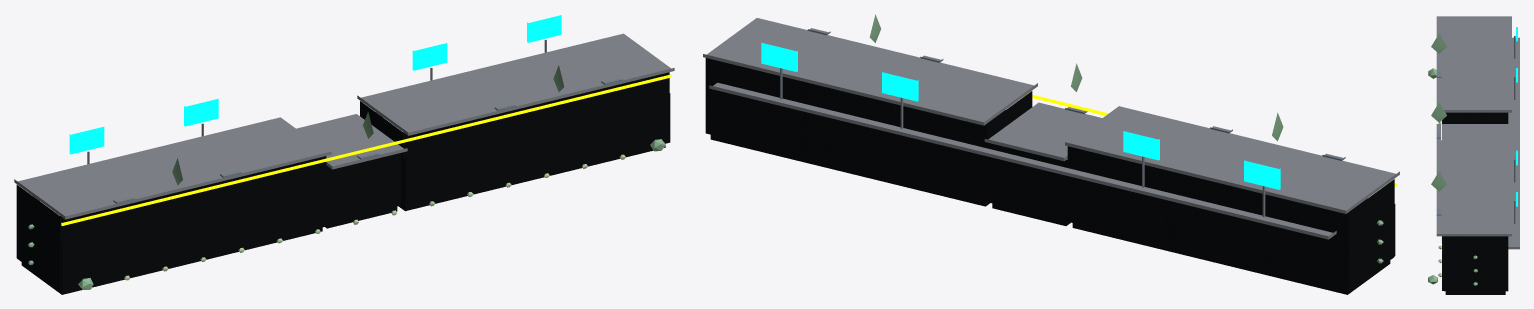
Rendered from v5_green_desk.glb.
3 renders of one model, left to right at view 1: azimuth 30°, elevation 25°; view 2: azimuth 150°, elevation 25°; view 3: azimuth 270°, elevation 25°, orthographic. The views are drawn at different scales.
Visible parts, largest first — view 1: Desk_Body_L, Desk_Body_R, Desk_Top_L, Desk_Top_R, Desk_Body_A, Desk_Top_A, Staff_Screens, Court_Line_LED, Leaf_Sign; view 2: Desk_Body_L, Desk_Body_R, Desk_Top_R, Desk_Top_L, Staff_Ledge, Desk_Body_A, Desk_Top_A, Staff_Screens, Leaf_Sign; view 3: Desk_Top_R, Desk_Top_L, Desk_Body_R, Staff_Ledge, Desk_Top_A, Desk_Body_L, Leaf_Sign, Staff_Monitor_Arms, End_Tufts, Ticket_Pads, Staff_Screens.
Part boxes in pixels (box(x1,y1,x2,y2)): Desk_Body_L: box(16, 156, 327, 294); Desk_Body_R: box(360, 72, 670, 211); Desk_Top_L: box(14, 117, 331, 219); Desk_Top_R: box(357, 33, 674, 135); Desk_Body_A: box(325, 153, 401, 228); Desk_Top_A: box(296, 114, 407, 169); Staff_Screens: box(69, 15, 561, 154); Court_Line_LED: box(61, 74, 671, 225); Leaf_Sign: box(172, 65, 564, 185); Desk_Body_L: box(1067, 146, 1395, 294); Desk_Body_R: box(705, 58, 1032, 206); Desk_Top_R: box(703, 18, 1037, 125); Desk_Top_L: box(1065, 106, 1399, 213); Staff_Ledge: box(709, 82, 1336, 239); Desk_Body_A: box(987, 142, 1070, 225); Desk_Top_A: box(984, 102, 1102, 161); Staff_Screens: box(761, 42, 1280, 189); Leaf_Sign: box(869, 14, 1283, 141); Desk_Top_R: box(1436, 140, 1511, 236); Desk_Top_L: box(1436, 16, 1511, 112); Desk_Body_R: box(1442, 236, 1508, 294); Staff_Ledge: box(1508, 37, 1519, 249); Desk_Top_A: box(1436, 124, 1511, 140); Desk_Body_L: box(1442, 112, 1508, 123); Leaf_Sign: box(1431, 33, 1446, 191); Staff_Monitor_Arms: box(1514, 36, 1515, 223); End_Tufts: box(1428, 68, 1437, 284); Ticket_Pads: box(1436, 33, 1441, 215); Staff_Screens: box(1516, 27, 1517, 206).
Size of what is drawn, in the model's own units: 8.26 by 1.42 by 1.41.
Materials: 7 (2 with a texture image).
